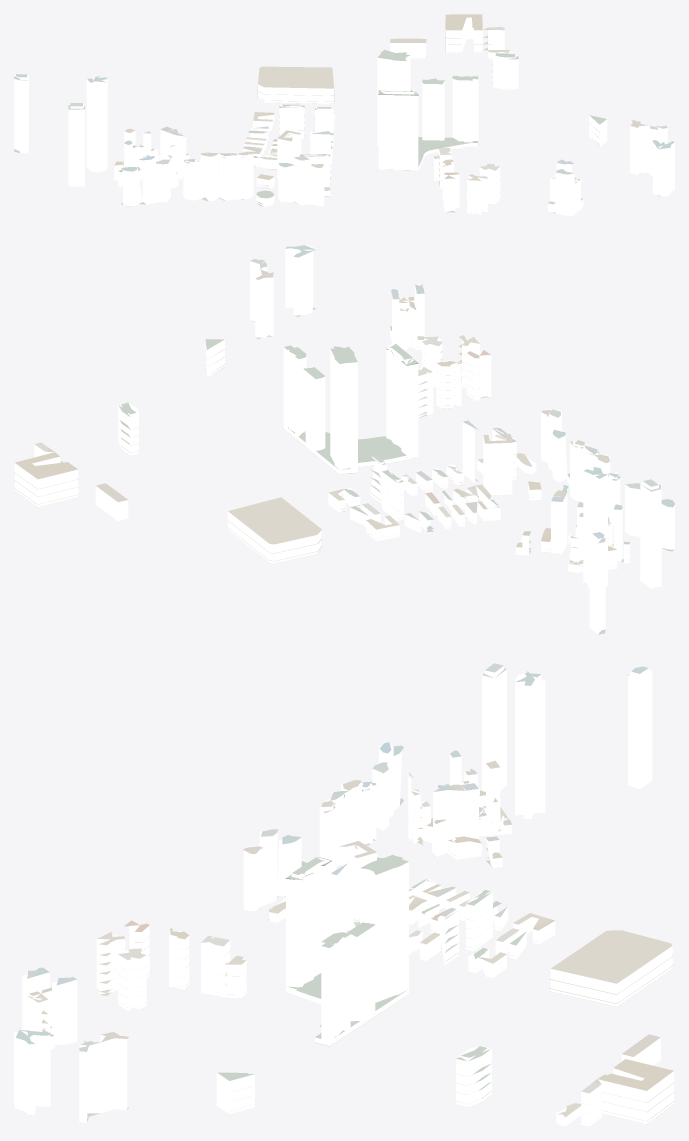
The model's file is buildings-0_-2-coarse.glb.
3 views of the same model, one above another, from view 1: azimuth 30°, elevation 25°; view 2: azimuth 150°, elevation 25°; view 3: azimuth 270°, elevation 25° (orthographic). The views are drawn at different scales.
Parts seen in each view (by area): view 1: block_0_-2_office, block_0_-2_residential, block_0_-2_roof; view 2: block_0_-2_office, block_0_-2_residential, block_0_-2_roof; view 3: block_0_-2_office, block_0_-2_residential, block_0_-2_roof.
Boxes of the visible parts, left/top/right/bottom form: block_0_-2_office: left=14, top=43, right=674, bottom=216; block_0_-2_residential: left=114, top=17, right=607, bottom=214; block_0_-2_roof: left=14, top=14, right=674, bottom=213; block_0_-2_office: left=95, top=245, right=674, bottom=634; block_0_-2_residential: left=14, top=297, right=630, bottom=572; block_0_-2_roof: left=14, top=245, right=674, bottom=634; block_0_-2_office: left=14, top=666, right=660, bottom=1122; block_0_-2_residential: left=27, top=772, right=674, bottom=1126; block_0_-2_roof: left=16, top=663, right=674, bottom=1123.
Size of the model in its own units: 649 by 123 by 522.
